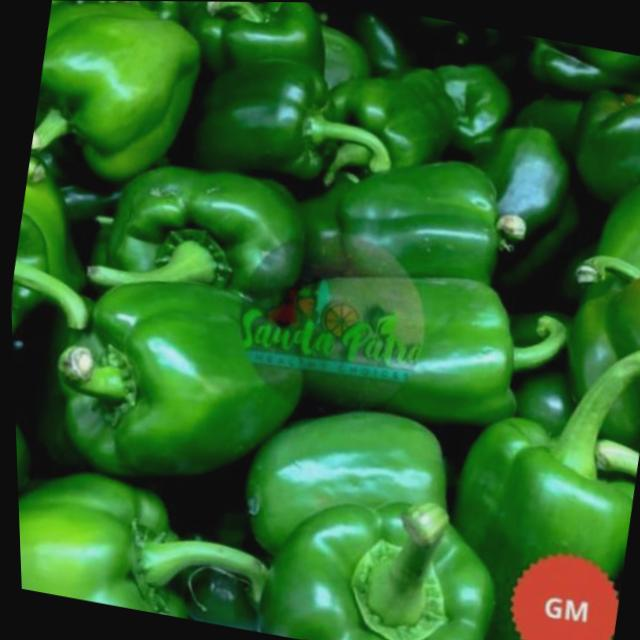Capsicum: (36, 256, 318, 505), (270, 244, 541, 431), (249, 478, 510, 640), (294, 135, 536, 291), (90, 150, 315, 313), (13, 457, 228, 620), (23, 0, 207, 188), (186, 46, 403, 201), (312, 49, 469, 184), (171, 1, 335, 89), (566, 48, 640, 206), (418, 54, 516, 156), (533, 352, 556, 358)
